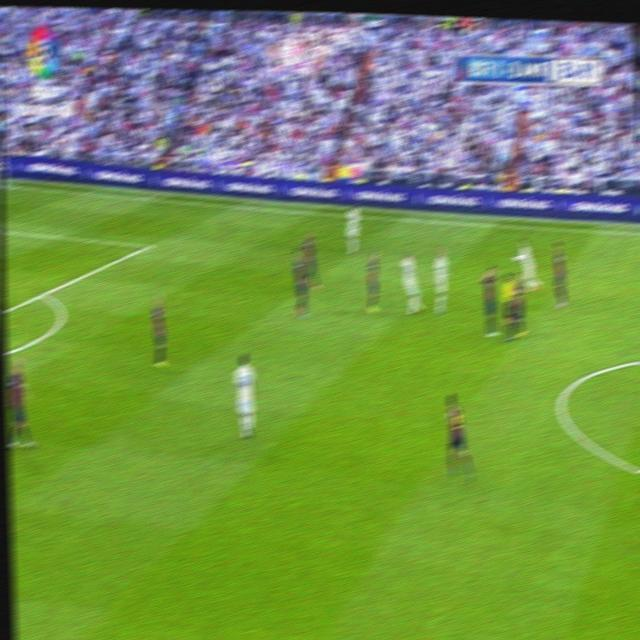bigarea_bottom_outter: (35, 284, 49, 303)
bigarea_top_inner: (142, 237, 153, 251)
corner: (1, 176, 12, 189)
top_arc_area_intersection: (36, 284, 49, 303)
